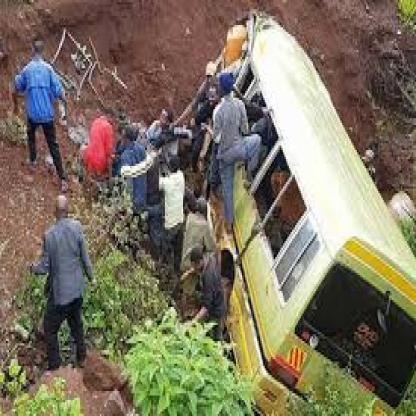accident: (199, 23, 416, 405)
